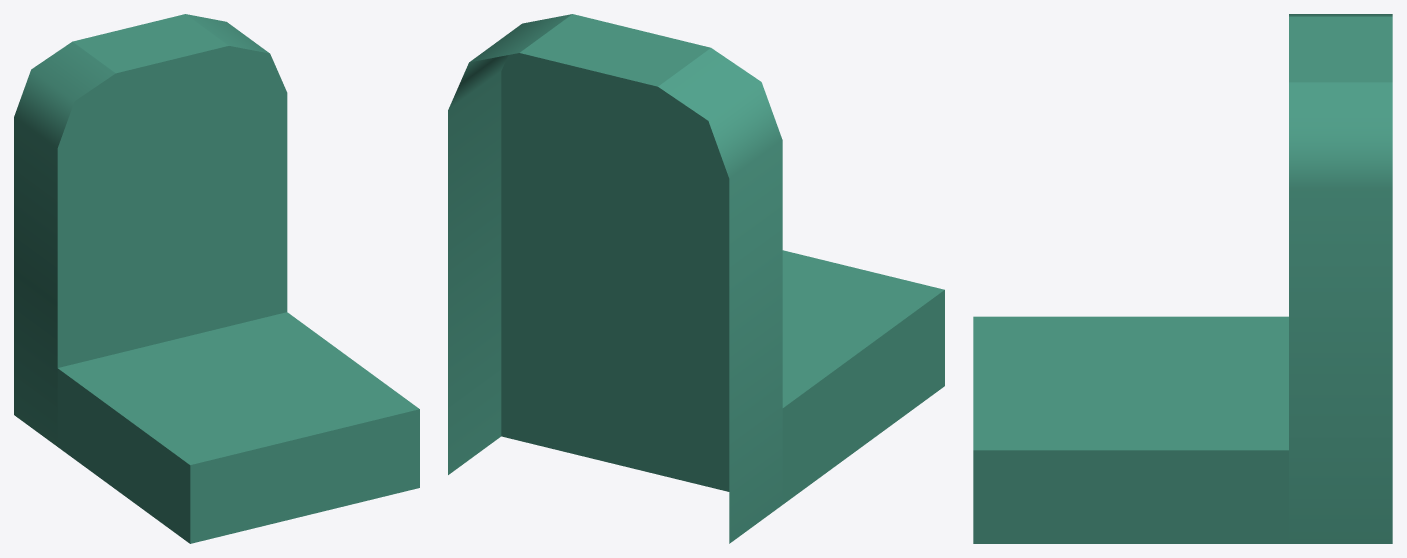
The model's file is Bus_chair.fbx.
3 renders of one model, left to right at view 1: azimuth 30°, elevation 25°; view 2: azimuth 150°, elevation 25°; view 3: azimuth 270°, elevation 25°, orthographic. The views are drawn at different scales.
Parts seen in each view (by area): view 1: Cube.002; view 2: Cube.002; view 3: Cube.002.
Part boxes in pixels (x1,y1,x2,y2): Cube.002: [14, 14, 419, 543]; Cube.002: [448, 14, 944, 543]; Cube.002: [973, 14, 1392, 543].
Size of the model in its own units: 7 by 10.47 by 9.3.
